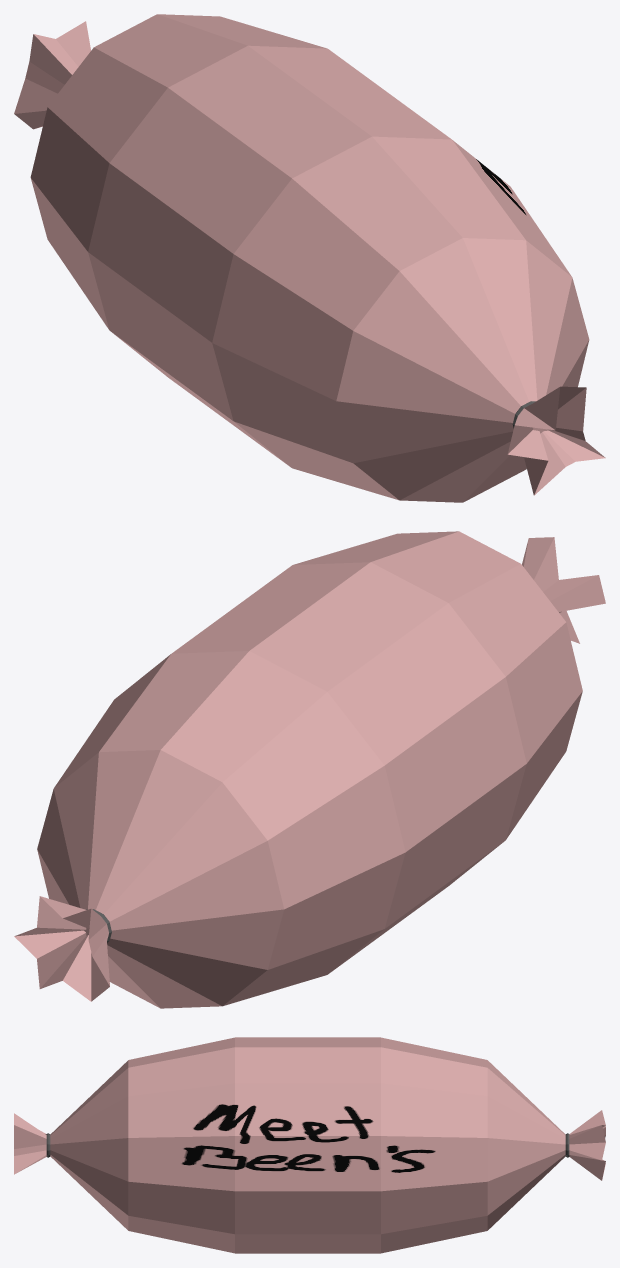
Rendered from MeetBeen's.fbx.
3 renders of one model, top to bottom at view 1: azimuth 30°, elevation 25°; view 2: azimuth 150°, elevation 25°; view 3: azimuth 270°, elevation 25°, orthographic. The views are drawn at different scales.
Visible parts, largest first — view 1: Cylinder; view 2: Cylinder; view 3: Cylinder.
Boxes of the visible parts, left/top/right/bottom form: Cylinder: left=14, top=14, right=605, bottom=502; Cylinder: left=14, top=531, right=605, bottom=1008; Cylinder: left=14, top=1037, right=605, bottom=1253.
Bounding box in the file's own units: 200 × 200 × 546.
Materials: 1 (1 with a texture image).
